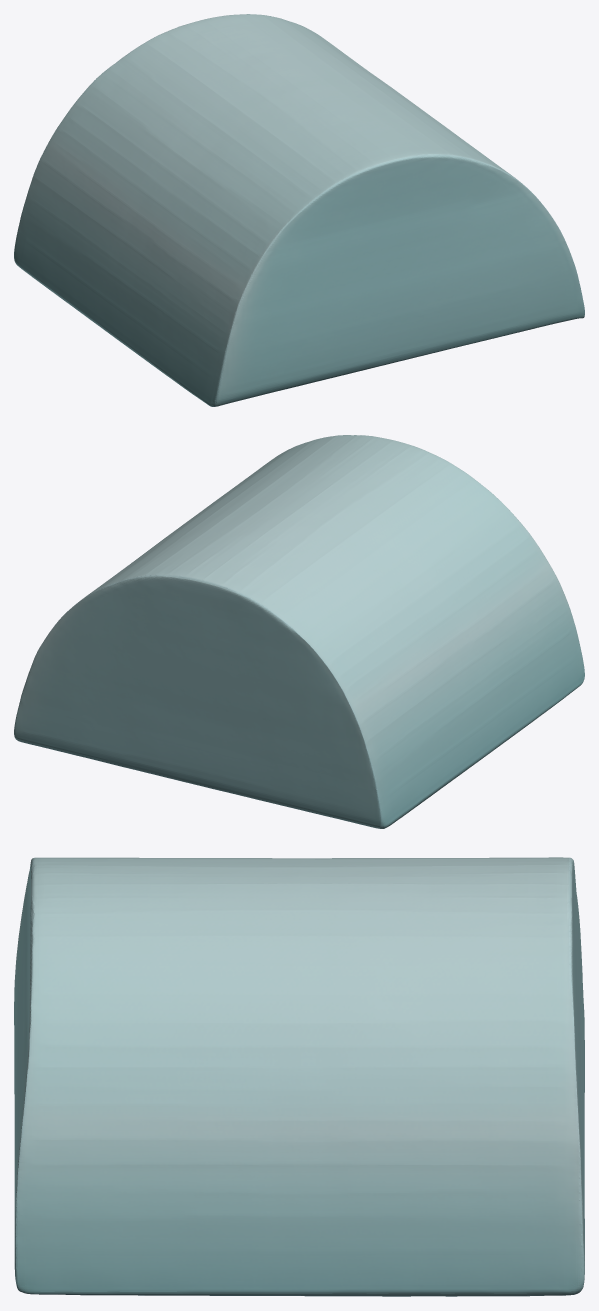
File: set1_obj3.glb
3 renders of one model, top to bottom at view 1: azimuth 30°, elevation 25°; view 2: azimuth 150°, elevation 25°; view 3: azimuth 270°, elevation 25°, orthographic. The views are drawn at different scales.
Visible parts, largest first — view 1: world; view 2: world; view 3: world.
Boxes of the visible parts, x1=… form: world: x1=14, y1=14, x2=584, y2=406; world: x1=14, y1=435, x2=584, y2=828; world: x1=14, y1=857, x2=584, y2=1296.
Bounding box in the file's own units: 0.9997 × 0.5256 × 0.9456.
